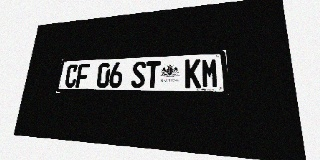0: (96, 63, 111, 88)
6: (109, 62, 124, 88)
C: (64, 64, 79, 88)
F: (75, 63, 90, 88)
K: (185, 59, 201, 88)
M: (201, 58, 219, 88)
S: (131, 61, 146, 88)
T: (145, 61, 161, 88)
